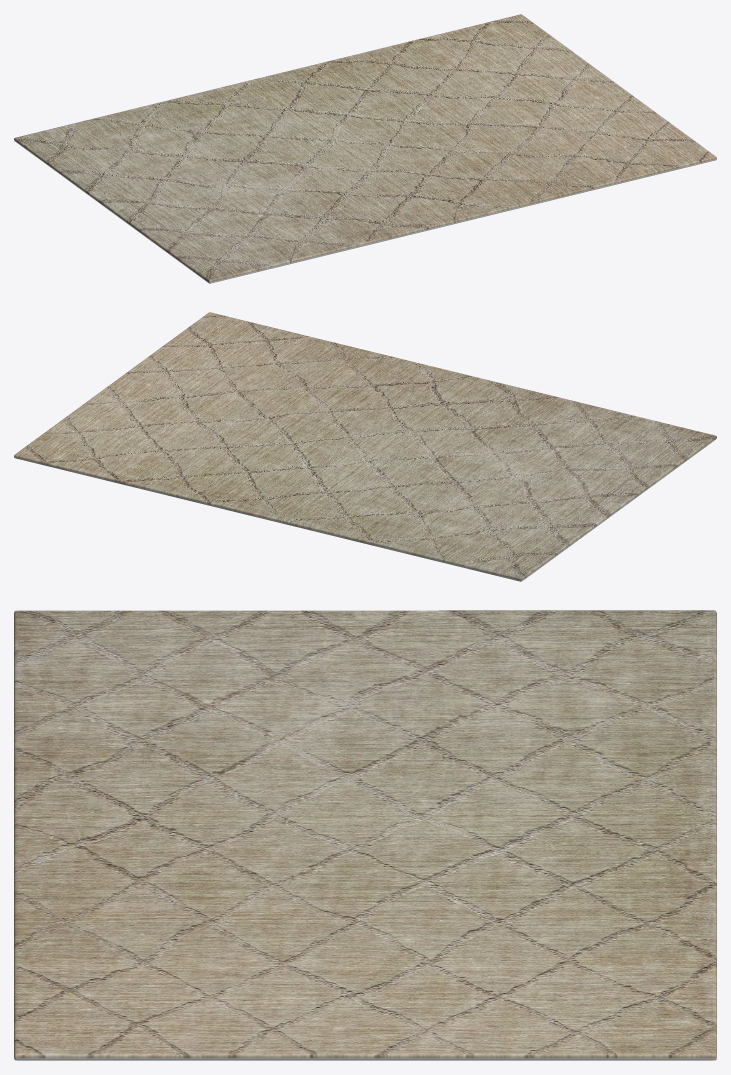
Rendered from B07121ZVVT.glb.
3 renders of one model, top to bottom at view 1: azimuth 30°, elevation 25°; view 2: azimuth 150°, elevation 25°; view 3: azimuth 270°, elevation 25°, orthographic. The views are drawn at different scales.
Parts seen in each view (by area): view 1: RootNode; view 2: RootNode; view 3: RootNode.
Part boxes in pixels (x1=…): RootNode: x1=14, y1=14, x2=716, y2=283; RootNode: x1=14, y1=312, x2=716, y2=581; RootNode: x1=14, y1=610, x2=716, y2=1060.
Size of the model in its own units: 2.28 by 0.015 by 1.52.
Materials: 1 (1 with a texture image).
